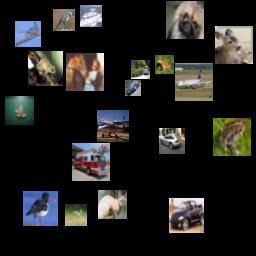airplane: (175, 63, 213, 101), (97, 110, 129, 142), (15, 21, 41, 47)
automobile: (169, 198, 204, 233), (159, 128, 185, 154), (125, 80, 141, 96)
bird: (23, 191, 58, 226), (53, 9, 75, 31)
cat: (98, 190, 127, 219)
deer: (215, 26, 253, 64), (65, 204, 87, 226)
dog: (166, 1, 204, 39)
frog: (213, 118, 251, 156), (28, 51, 63, 86), (5, 96, 34, 125), (155, 55, 174, 74)
ship: (80, 5, 102, 27)
truck: (72, 143, 110, 181), (131, 60, 150, 79)
